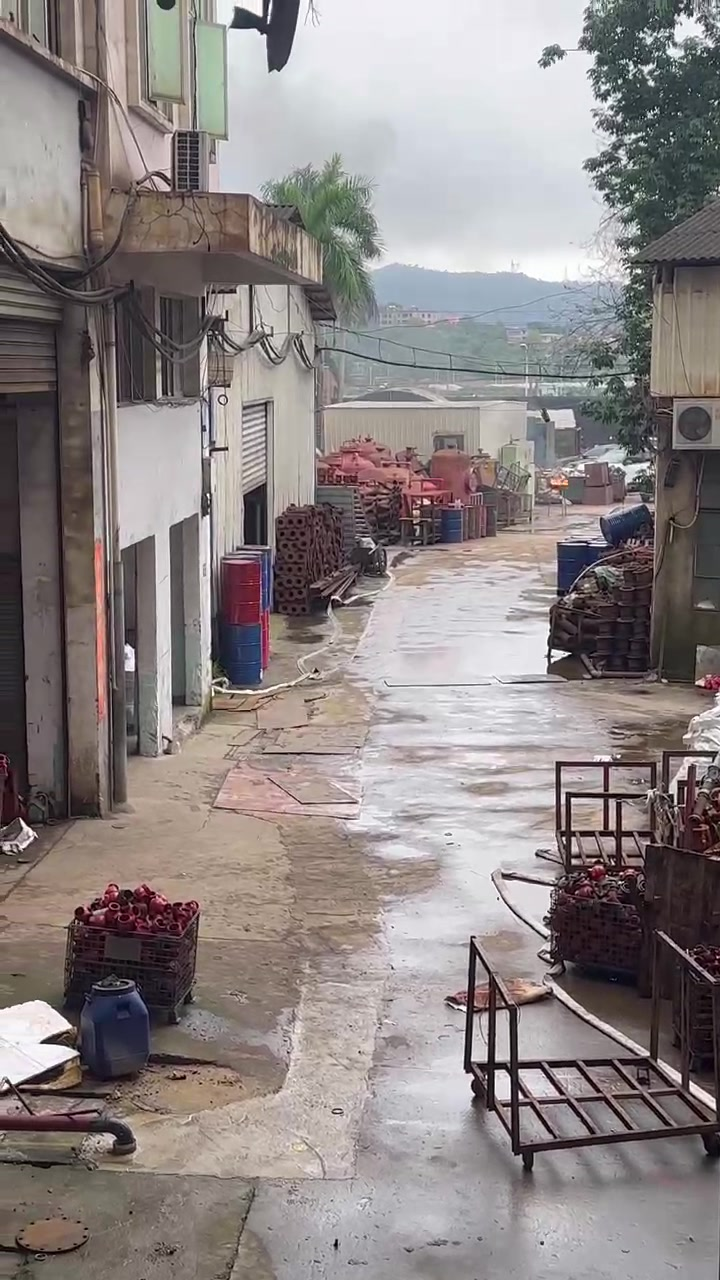fire: (550, 476, 567, 484)
